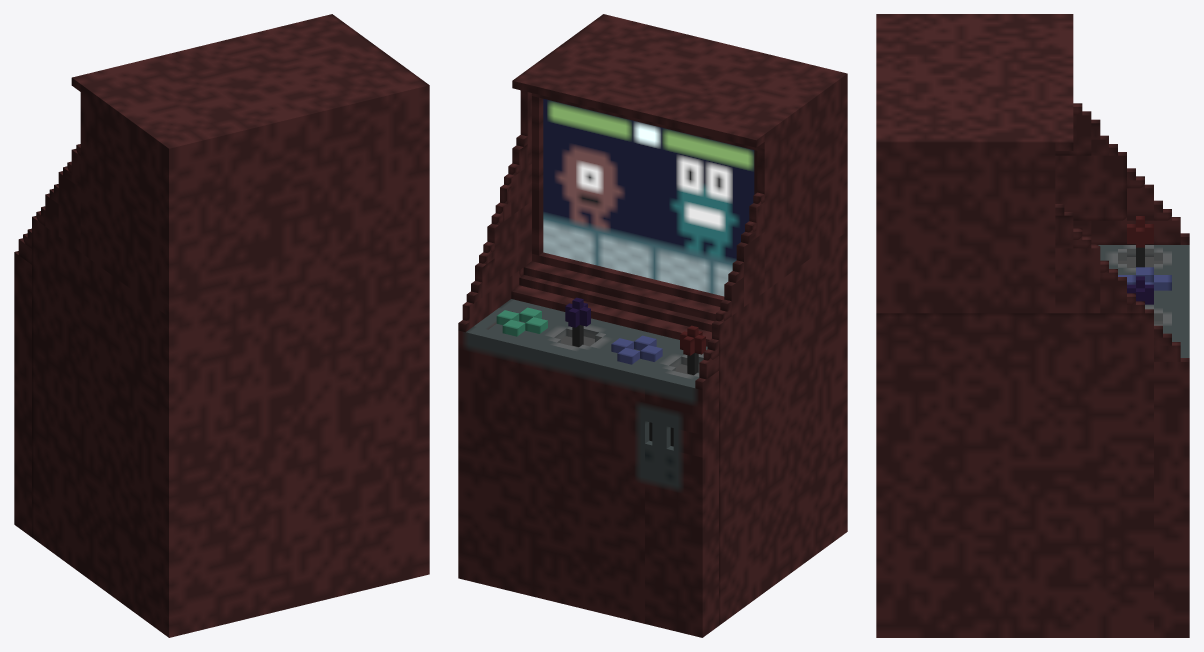
3 renders of one model, left to right at view 1: azimuth 30°, elevation 25°; view 2: azimuth 150°, elevation 25°; view 3: azimuth 270°, elevation 25°, orthographic. The views are drawn at different scales.
Visible parts, largest first — view 1: Content; view 2: Content; view 3: Content.
Boxes of the visible parts, x1,y1,x2,y2 form: Content: (14, 14, 429, 637); Content: (458, 14, 847, 637); Content: (876, 14, 1189, 637).
Bounding box in the file's own units: 34 × 61 × 35.
Materials: 1 (1 with a texture image).
